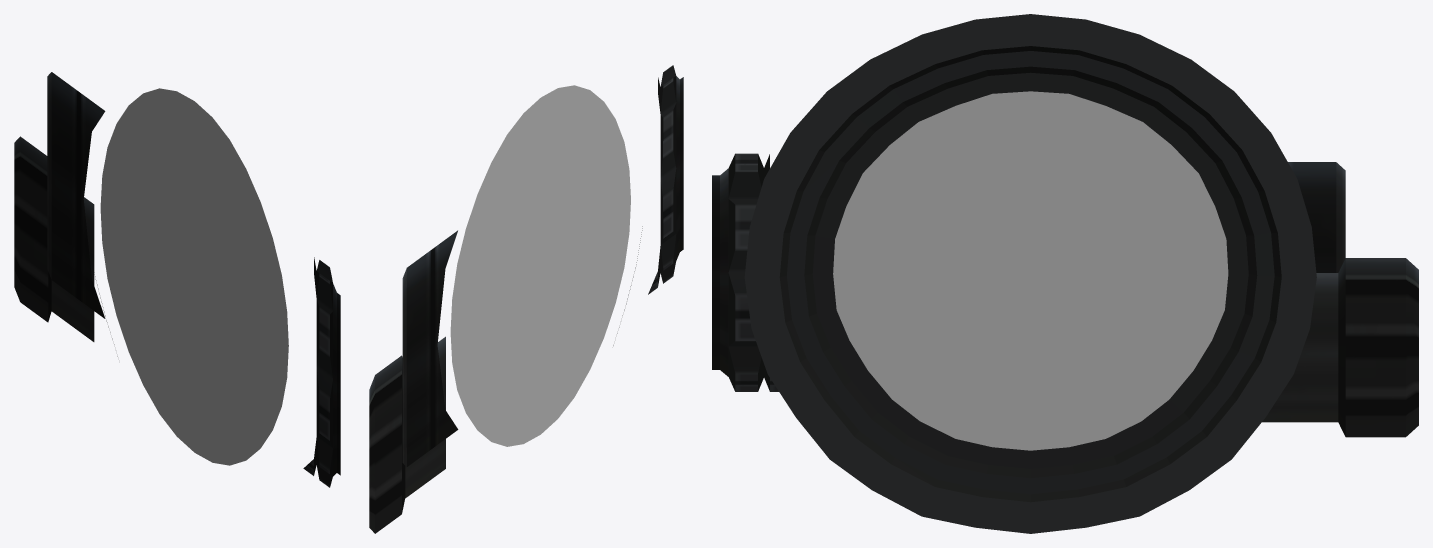
The model's file is Scopes_8xCQBSS_Base_3_Mod_1.FBX.
The picture shows the model from 3 angles, left to right: view 1: azimuth 30°, elevation 25°; view 2: azimuth 150°, elevation 25°; view 3: azimuth 270°, elevation 25°; orthographic projection. The views are drawn at different scales.
Visible parts, largest first — view 1: Lens_8xCQBSS_Base_3_Mod_1, Scopes_8xCQBSS_Base_3_Mod_1; view 2: Lens_8xCQBSS_Base_3_Mod_1, Scopes_8xCQBSS_Base_3_Mod_1; view 3: Scopes_8xCQBSS_Base_3_Mod_1, Lens_8xCQBSS_Base_3_Mod_1.
Boxes of the visible parts, box(x1,y1,x2,y2) form: Lens_8xCQBSS_Base_3_Mod_1: box(100, 88, 288, 465); Scopes_8xCQBSS_Base_3_Mod_1: box(14, 72, 340, 487); Lens_8xCQBSS_Base_3_Mod_1: box(450, 85, 630, 446); Scopes_8xCQBSS_Base_3_Mod_1: box(369, 65, 683, 533); Scopes_8xCQBSS_Base_3_Mod_1: box(712, 14, 1418, 533); Lens_8xCQBSS_Base_3_Mod_1: box(833, 91, 1228, 450).
Size of the model in its own units: 0.1243 by 6.56 by 8.09.
